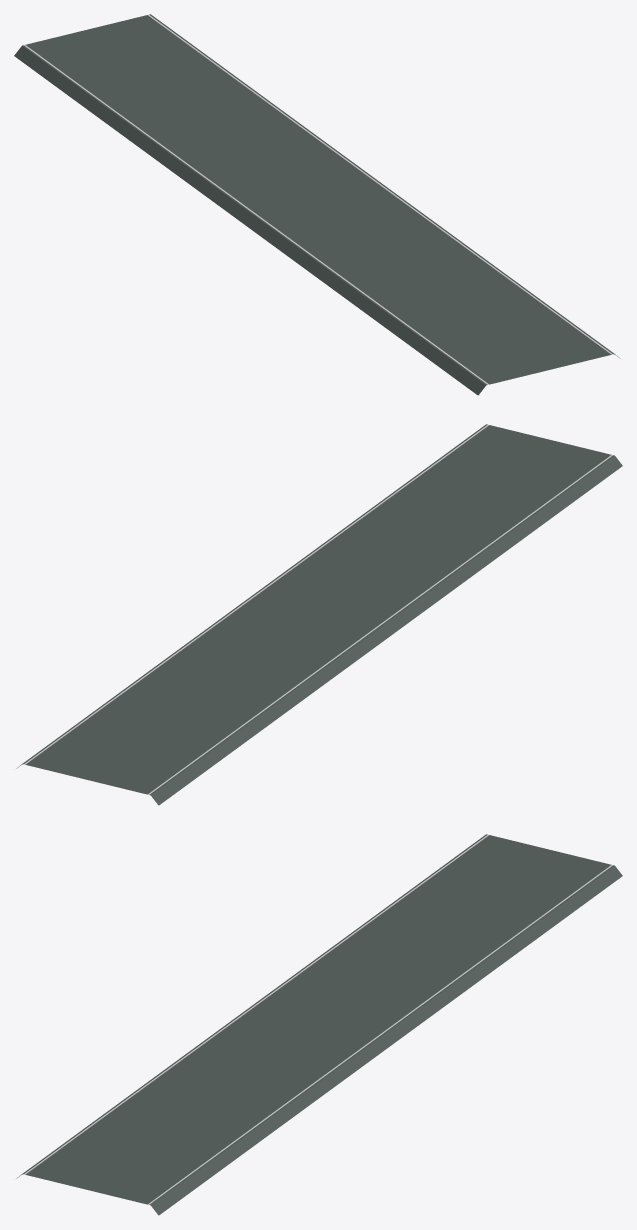
Rendered from Straight_XL.fbx.
The picture shows the model from 3 angles, top to bottom: view 1: azimuth 30°, elevation 25°; view 2: azimuth 150°, elevation 25°; view 3: azimuth 330°, elevation 25°; orthographic projection.
Visible parts, largest first — view 1: Plane; view 2: Plane; view 3: Plane.
Part boxes in pixels (x1,y1,x2,y2): Plane: [14, 14, 620, 395]; Plane: [16, 424, 622, 805]; Plane: [16, 834, 622, 1215].
Bounding box in the file's own units: 18 × 1 × 100.
